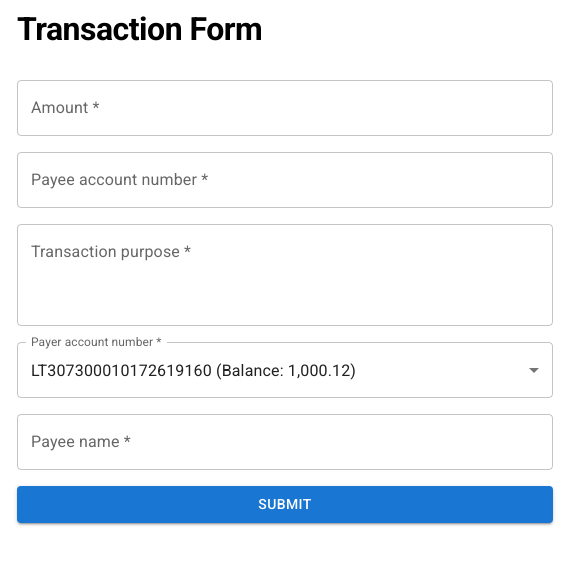
Scenario: TransactionForm › validates minimum amount
Type "0" into the field with test id "input-amount" at (285, 108), box 17,80 -> 553,136
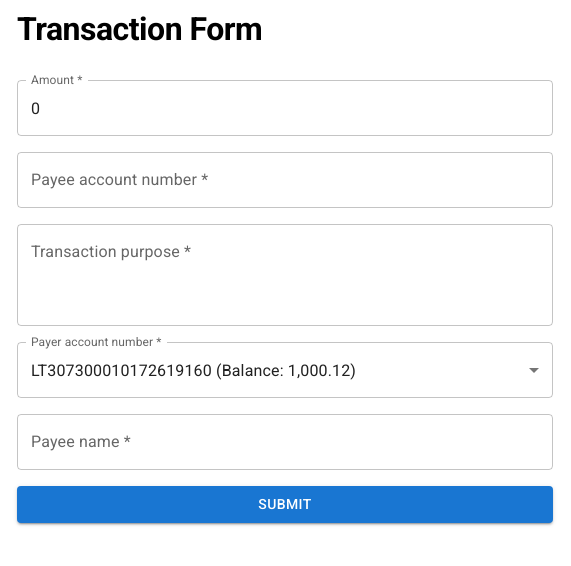
Leave the field with test id "input-amount", box 17,80 -> 553,136
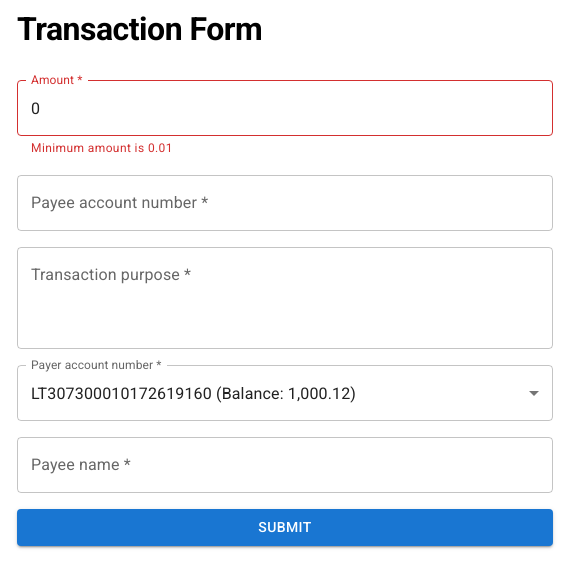
Result: the text "Minimum amount is 0.01" is shown at 31,141 -> 173,155
